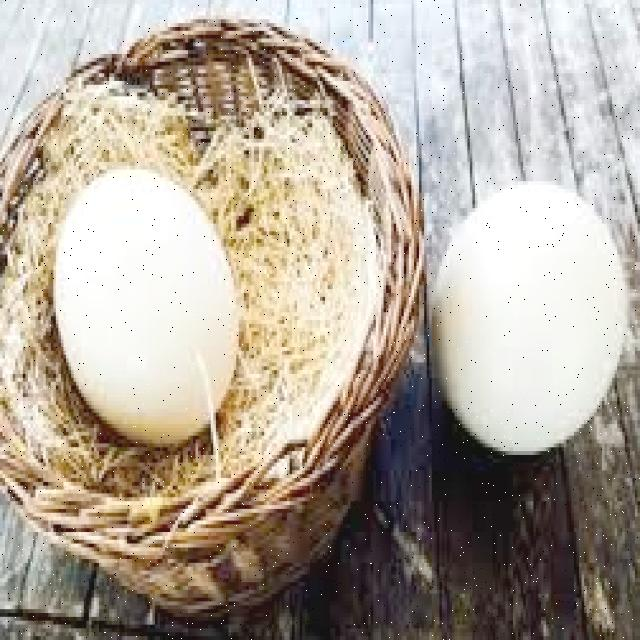White Egg: (424, 171, 636, 473), (49, 165, 237, 448)
